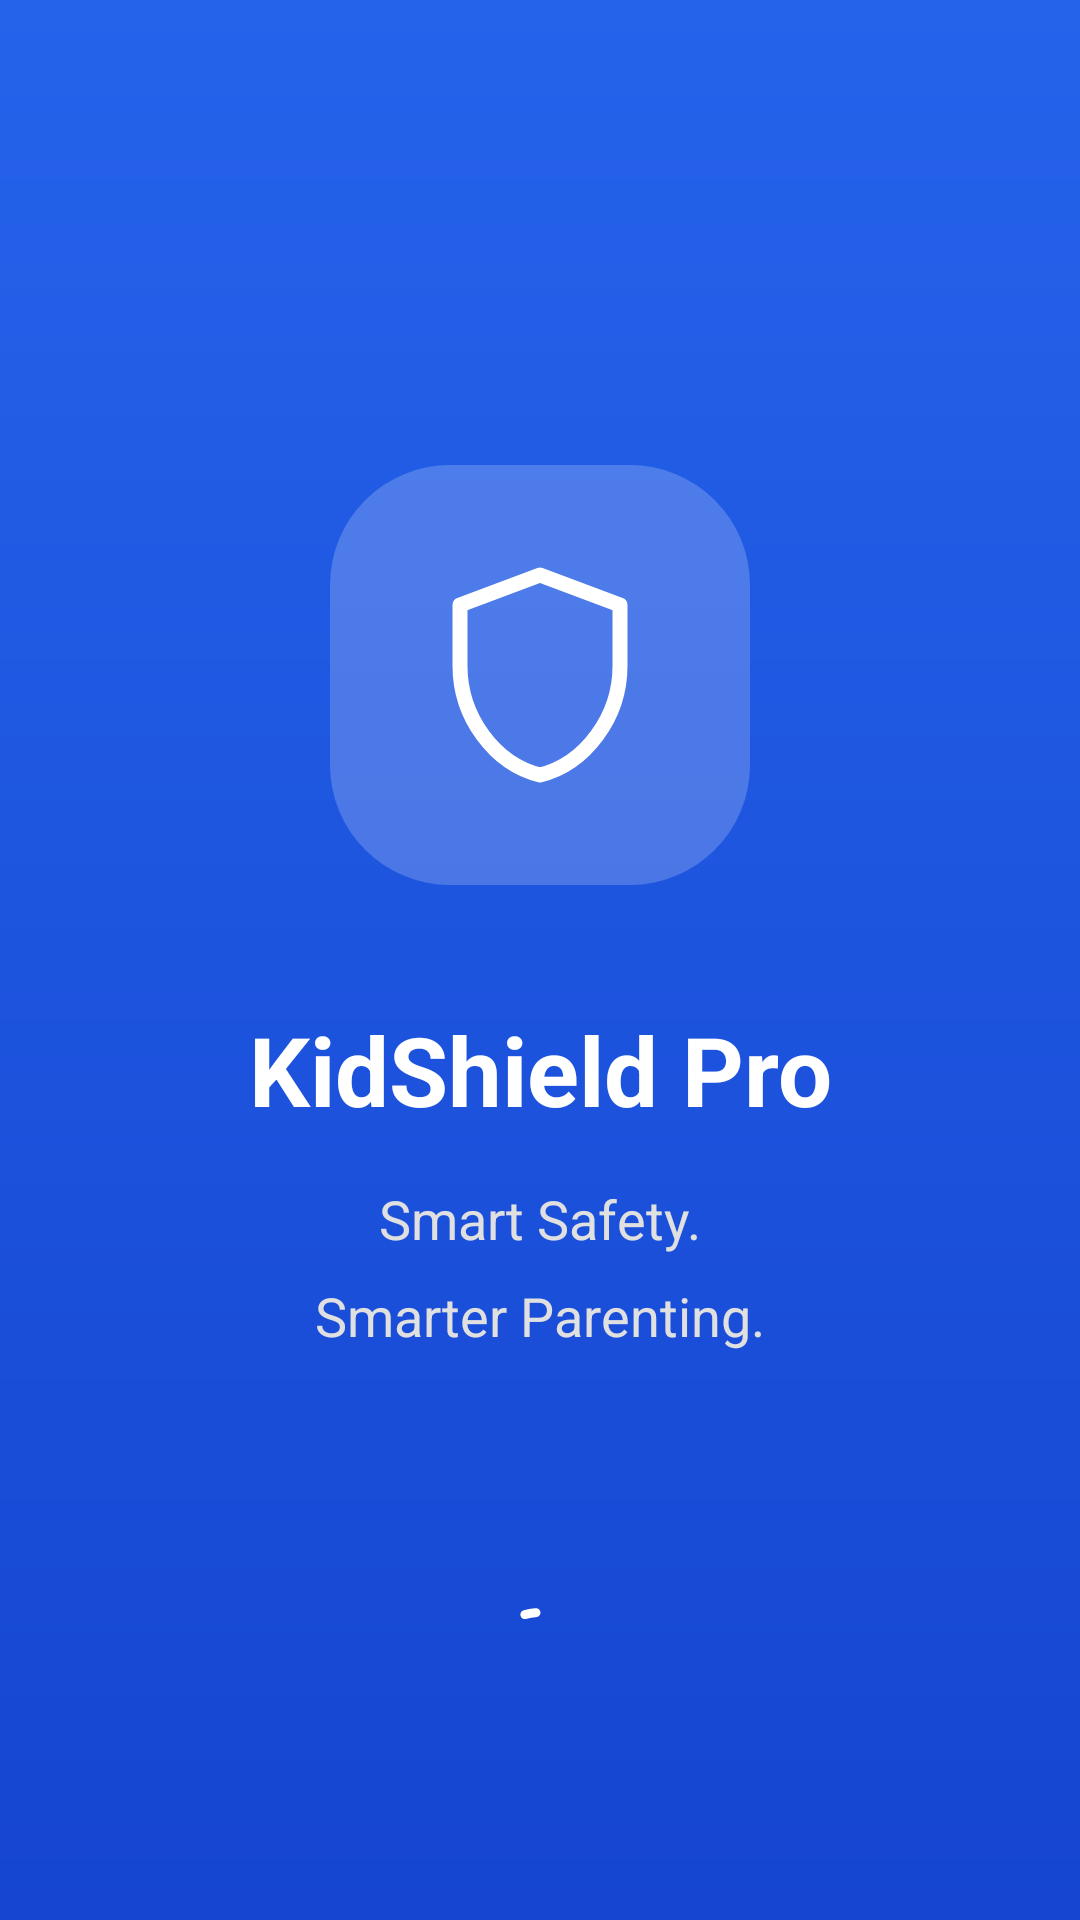

Icon click points for this 1080 x 1920 phone screenshot, format (x=x, y=y):
shield: (x=540, y=675)
